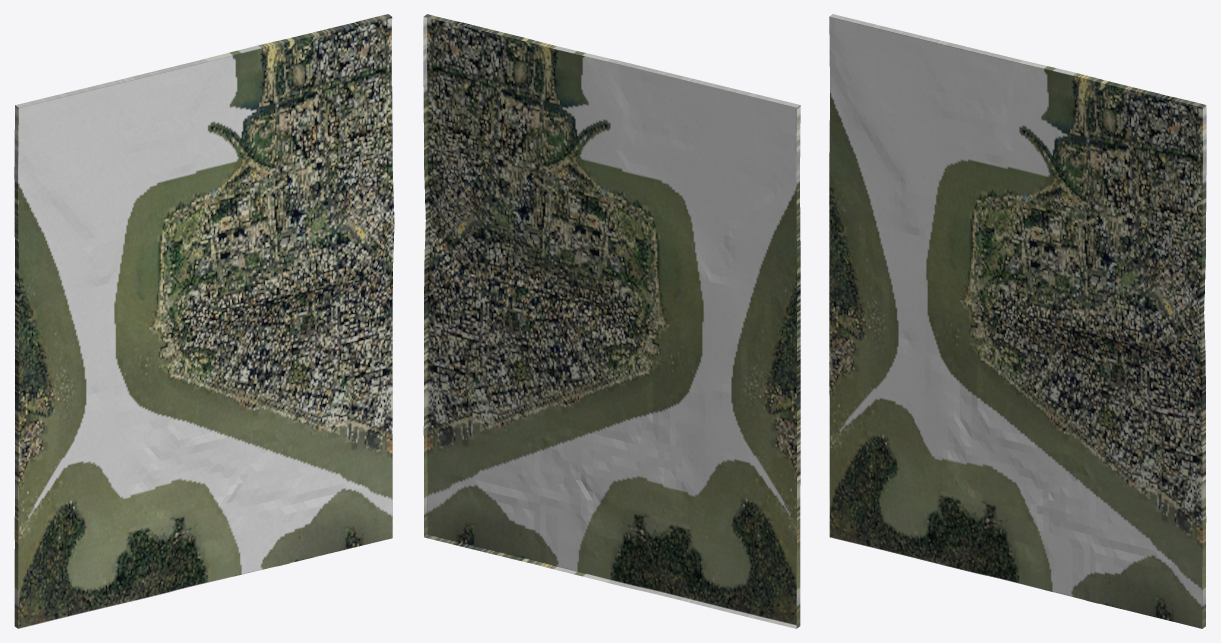
Rendered from terrenoB_.dae.
3 renders of one model, left to right at view 1: azimuth 30°, elevation 25°; view 2: azimuth 150°, elevation 25°; view 3: azimuth 330°, elevation 25°, orthographic.
Visible parts, largest first — view 1: node; view 2: node; view 3: node.
Part boxes in pixels (box(x1,y1,x2,y2)): node: box(14, 14, 394, 628); node: box(423, 14, 800, 628); node: box(829, 14, 1206, 628).
Bounding box in the file's own units: 2820 × 3760 × 89.64.
1 material, 1 textured.
